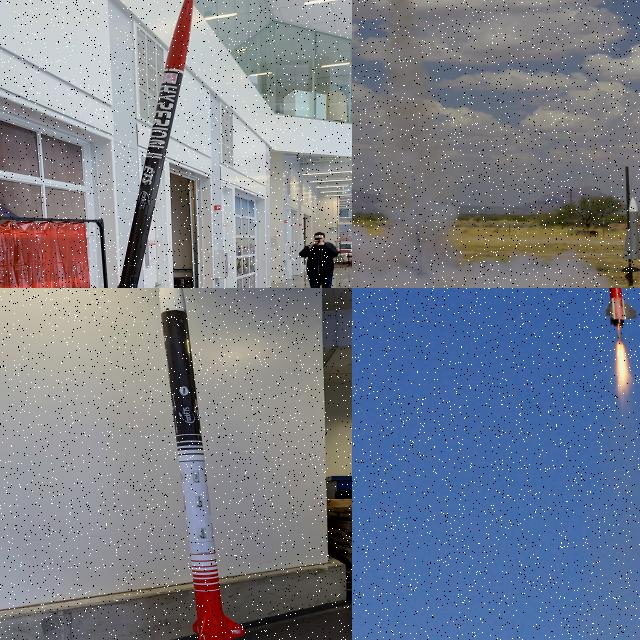Rocket: (159, 288, 245, 640), (116, 0, 193, 288), (603, 288, 638, 327), (623, 197, 640, 260)
